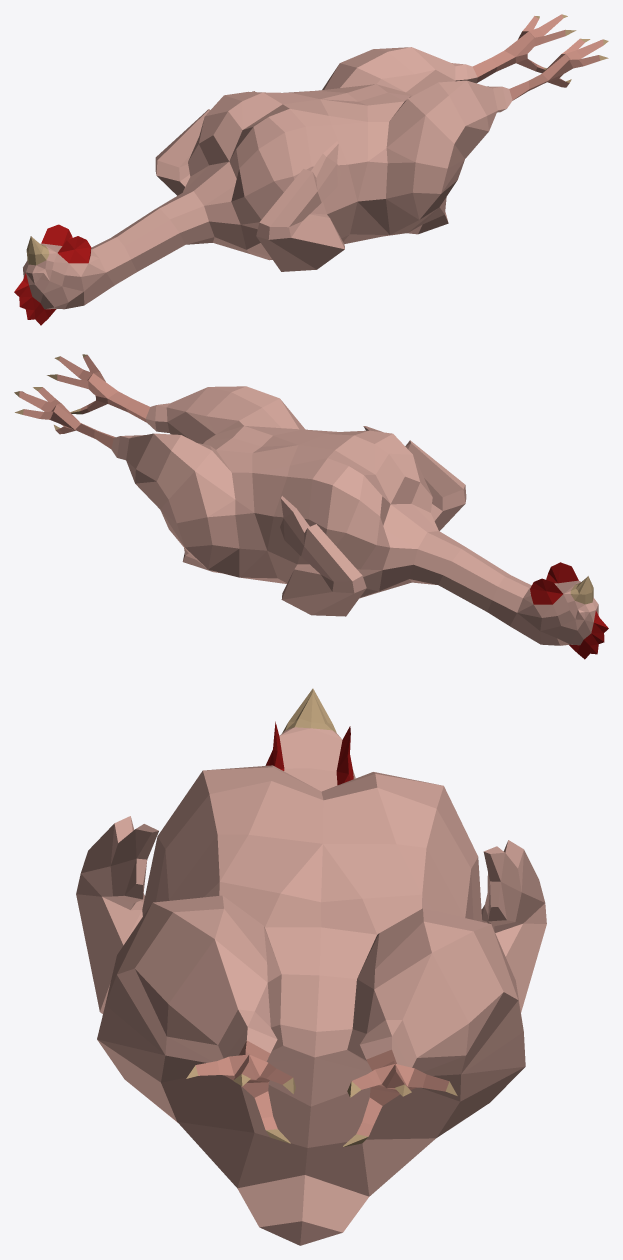
The model's file is PT_Chicken_Plucked_01.fbx.
The picture shows the model from 3 angles, top to bottom: view 1: azimuth 30°, elevation 25°; view 2: azimuth 150°, elevation 25°; view 3: azimuth 270°, elevation 25°; orthographic projection. The views are drawn at different scales.
Parts seen in each view (by area): view 1: PT_Chicken_Plucked_01; view 2: PT_Chicken_Plucked_01; view 3: PT_Chicken_Plucked_01.
Part boxes in pixels (bbox=[...]): PT_Chicken_Plucked_01: bbox=[14, 14, 608, 325]; PT_Chicken_Plucked_01: bbox=[14, 354, 608, 659]; PT_Chicken_Plucked_01: bbox=[76, 688, 546, 1245].
Bounding box in the file's own units: 94.59 × 25.77 × 33.8.
Materials: 1 (1 with a texture image).
